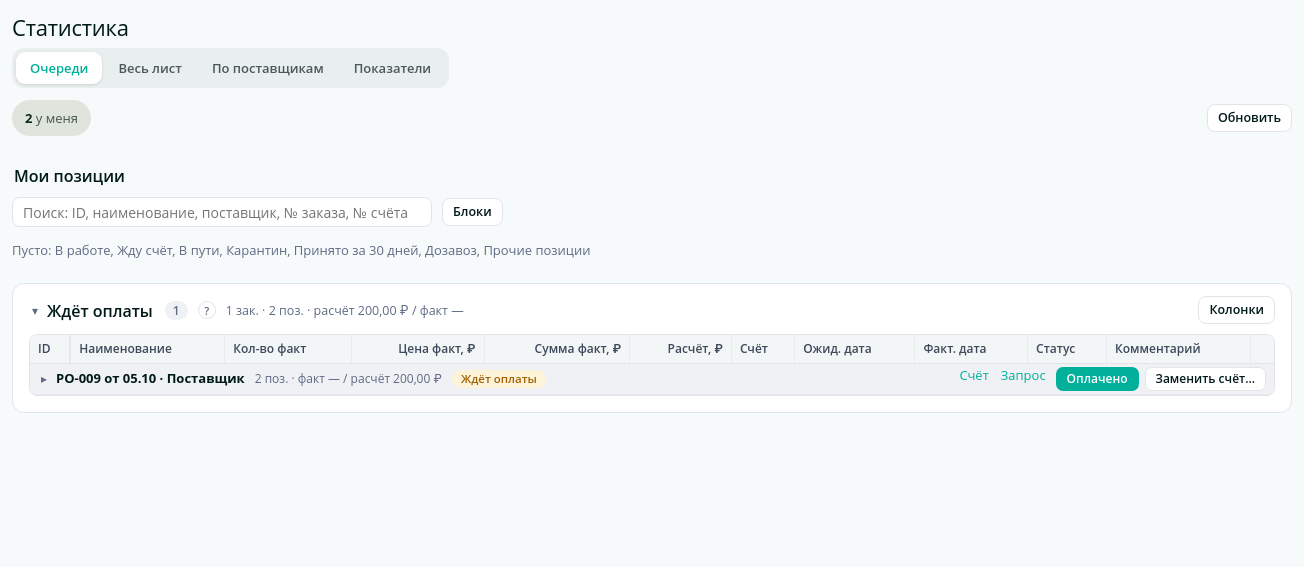
Test: shows «Счёт» and «Запрос» in the order header, has no «⋯» menu and reaches every line action without opening anything
Click the button "▸ PO-009 от 05.10 · Поставщик" at (141, 379), box [38,370,245,388]
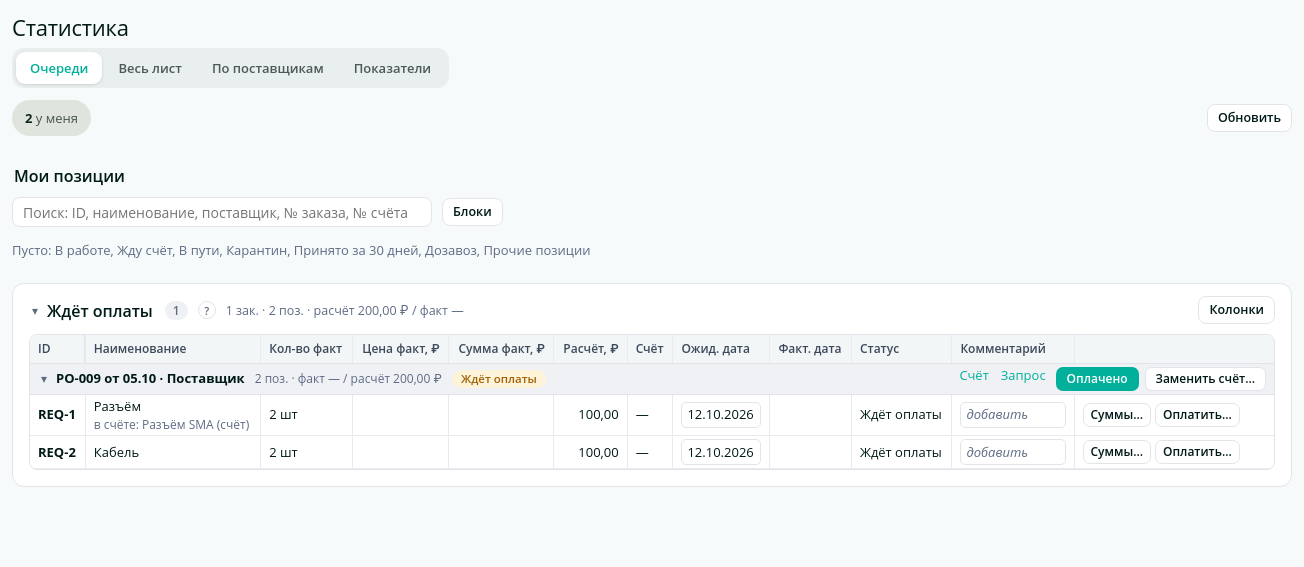
Now the button "▾ PO-009 от 05.10 · Поставщик" is expanded, box [38,370,245,388]
Click the button "Суммы…" in the row of "REQ-1" at (1117, 415), box [1082,403,1151,427]
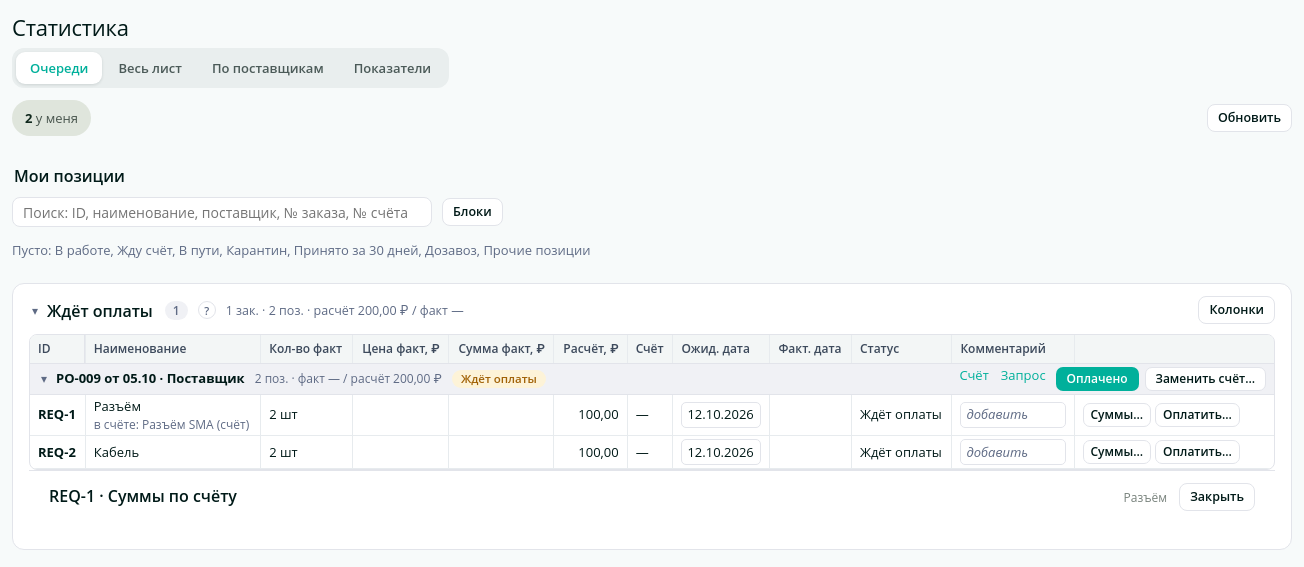
Now the heading "REQ-1 · Суммы по счёту" is shown, box [49,485,237,507]
